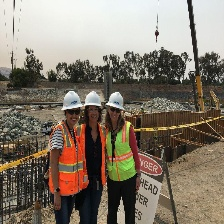helmet: (59, 88, 82, 115), (82, 88, 105, 115), (106, 89, 127, 113)
person: (106, 90, 146, 224), (45, 90, 84, 223), (78, 90, 110, 221)
vest: (49, 123, 85, 193), (77, 125, 110, 187), (106, 121, 138, 183)
